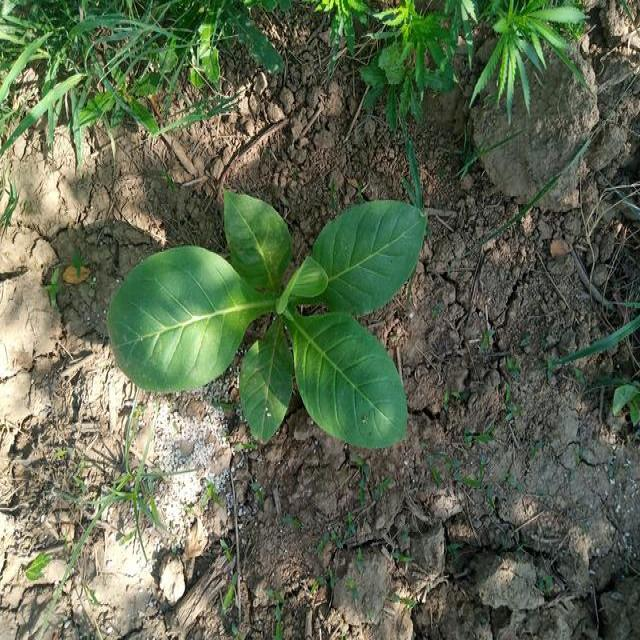crop: (100, 199, 431, 453)
